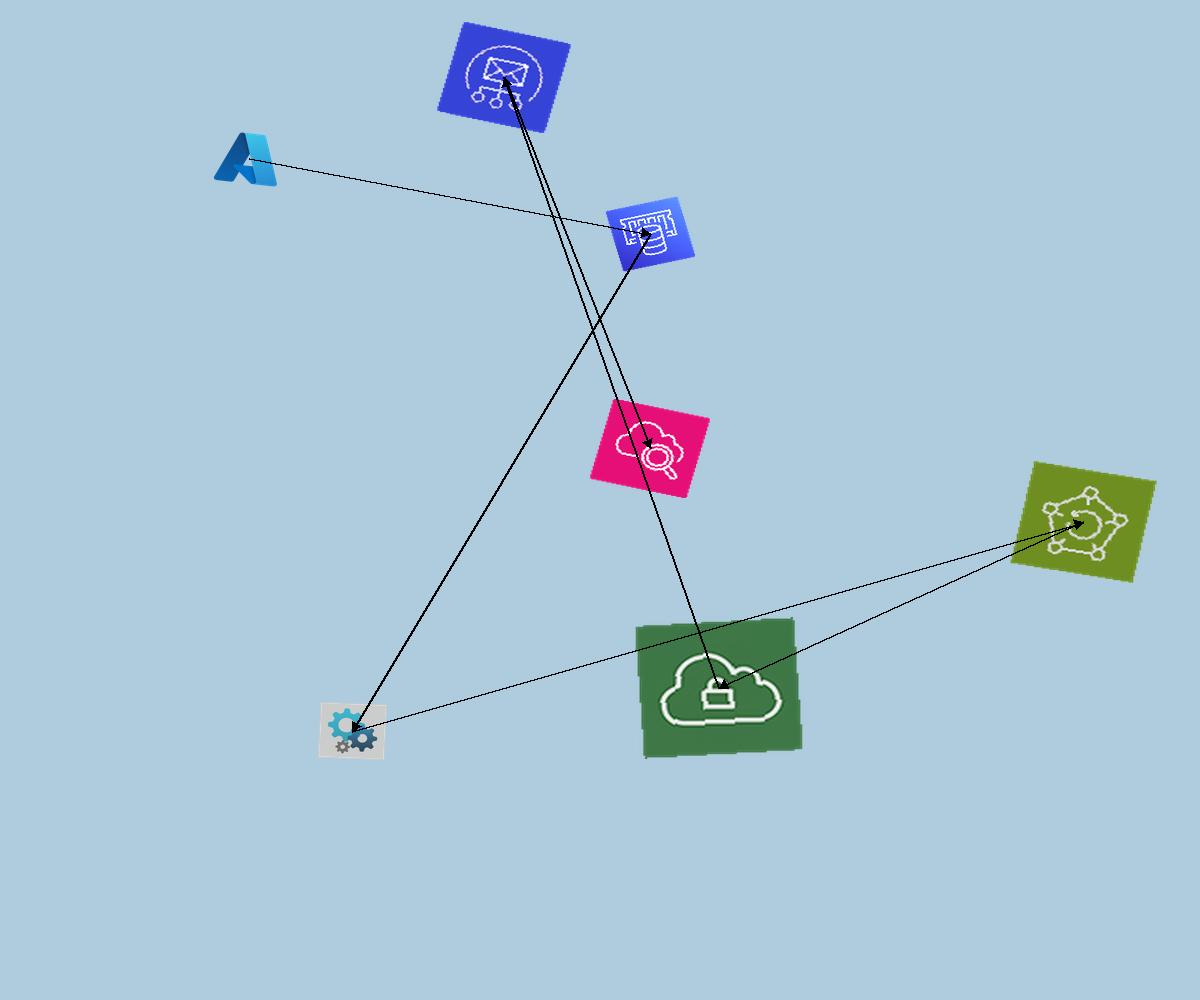AWS-Backup: (1009, 460, 1158, 584)
AWS-CloudWatch: (589, 398, 711, 499)
AWS-ElastiCache: (605, 196, 696, 272)
AWS-Private_vpc: (634, 617, 804, 759)
AWS-Simple-Email-Service: (436, 21, 572, 134)
Azure_api: (318, 702, 387, 760)
Azure_services: (210, 126, 288, 191)
